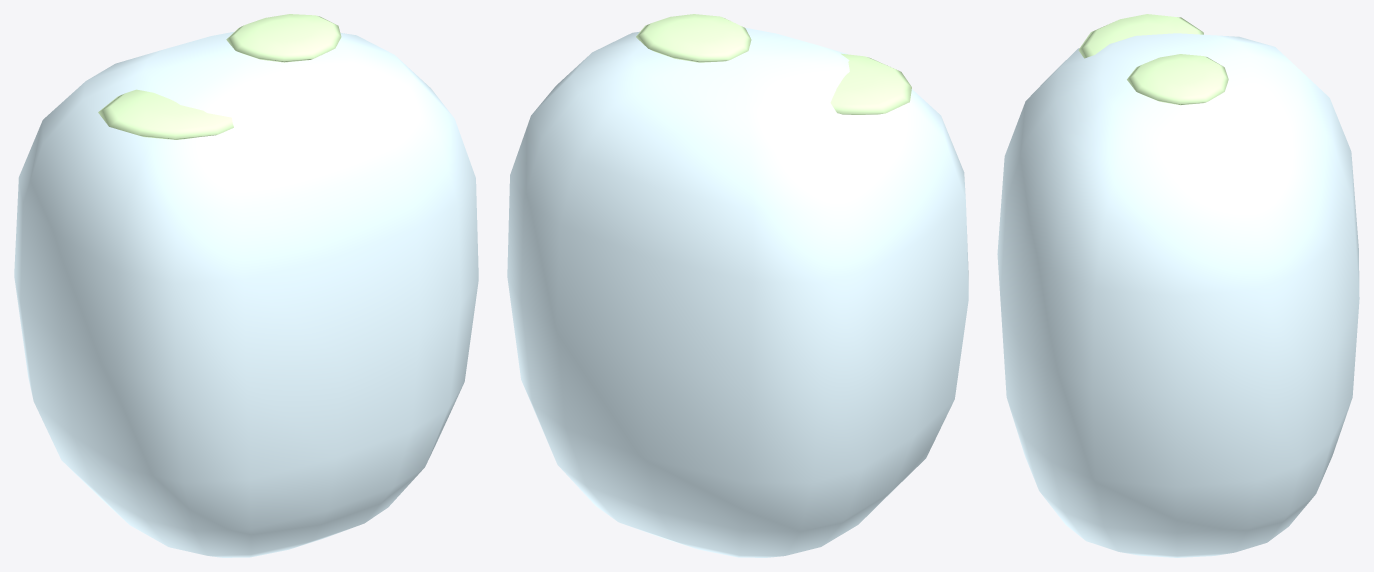
The model's file is rock-tall.glb.
The picture shows the model from 3 angles, left to right: view 1: azimuth 30°, elevation 25°; view 2: azimuth 150°, elevation 25°; view 3: azimuth 270°, elevation 25°; orthographic projection. The views are drawn at different scales.
Parts seen in each view (by area): view 1: rock-tall; view 2: rock-tall; view 3: rock-tall.
Part boxes in pixels (x1,y1,x2,y2): rock-tall: (14,14,478,557); rock-tall: (507,14,968,557); rock-tall: (997,14,1359,557).
Bounding box in the file's own units: 2.5 × 3 × 2.06.
